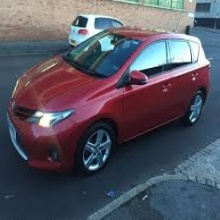no damage: (6, 26, 211, 173), (69, 15, 126, 47)
